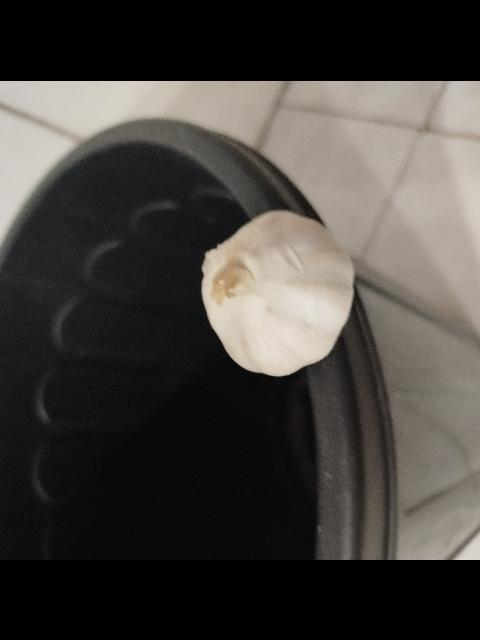garlic: (200, 208, 356, 376)
